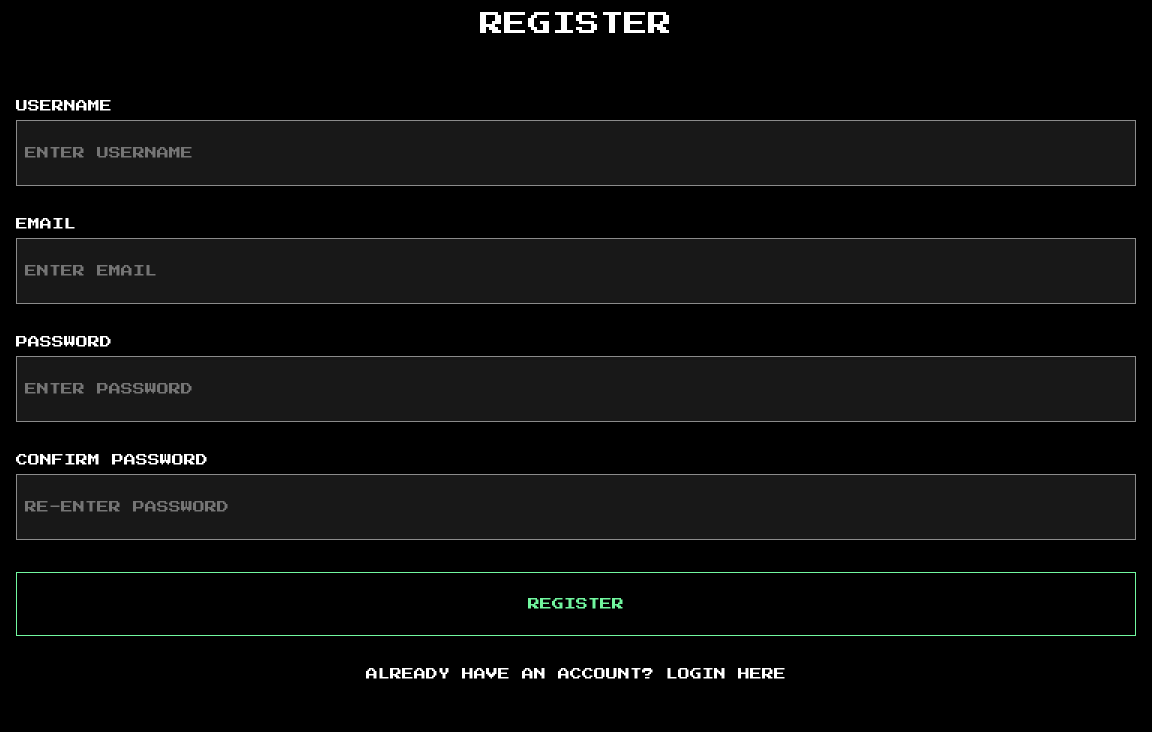
Test: RegisterView.vue › Displays an error message if passwords do not match
Type "newguy2" into the field labelled "USERNAME".
click(576, 153); type("newguy2")  # box [16,120,1136,186]
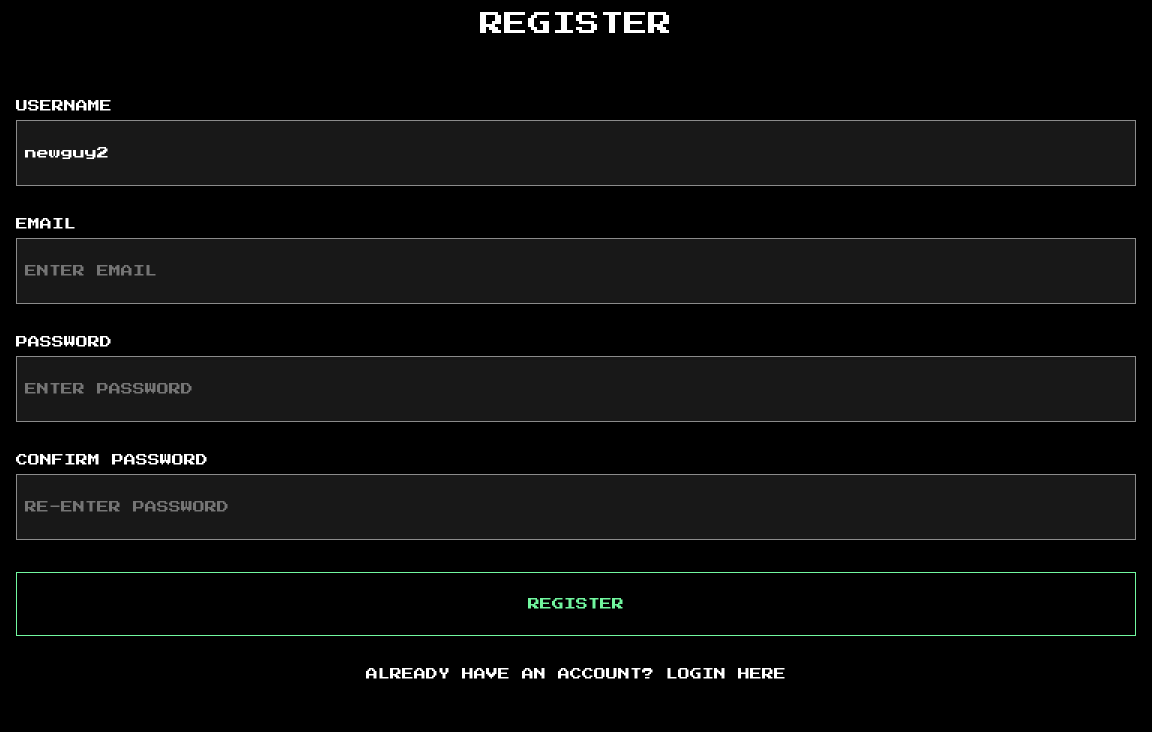
Type "newguy2@gmail.com" into the field labelled "EMAIL".
click(576, 271); type("newguy2@gmail.com")  # box [16,238,1136,304]
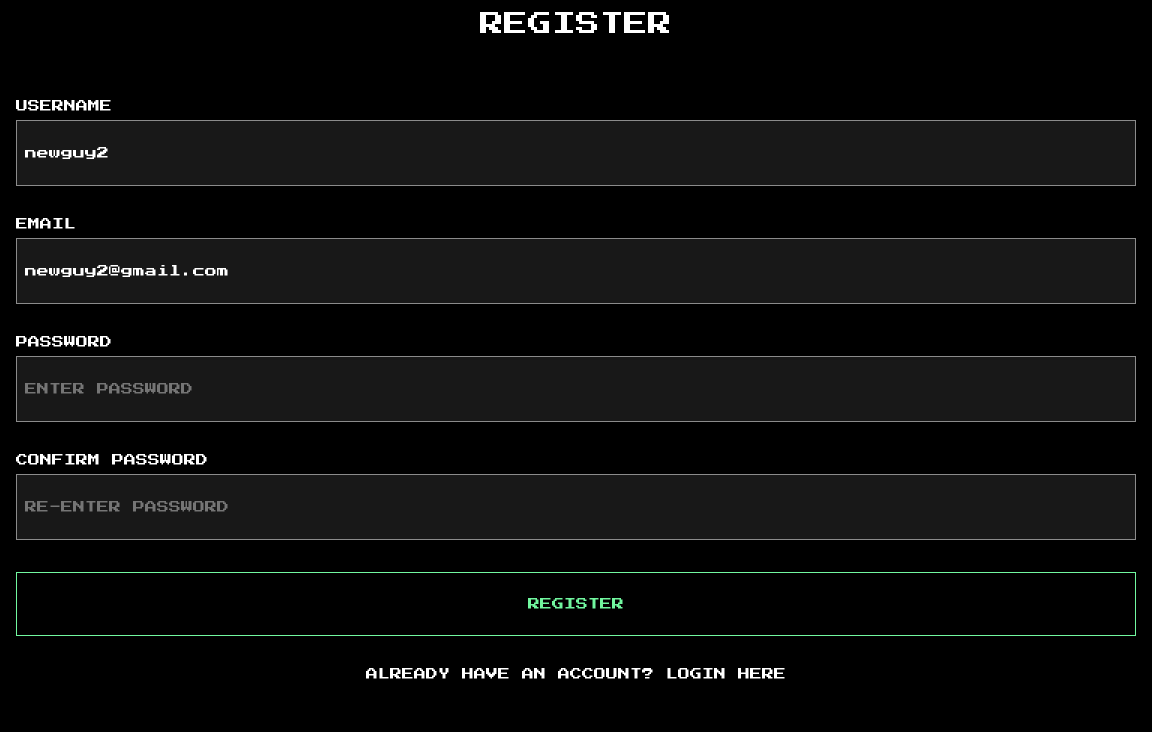
Type "newguy2" into the password field labelled "PASSWORD".
click(576, 389); type("newguy2")  # box [16,356,1136,422]
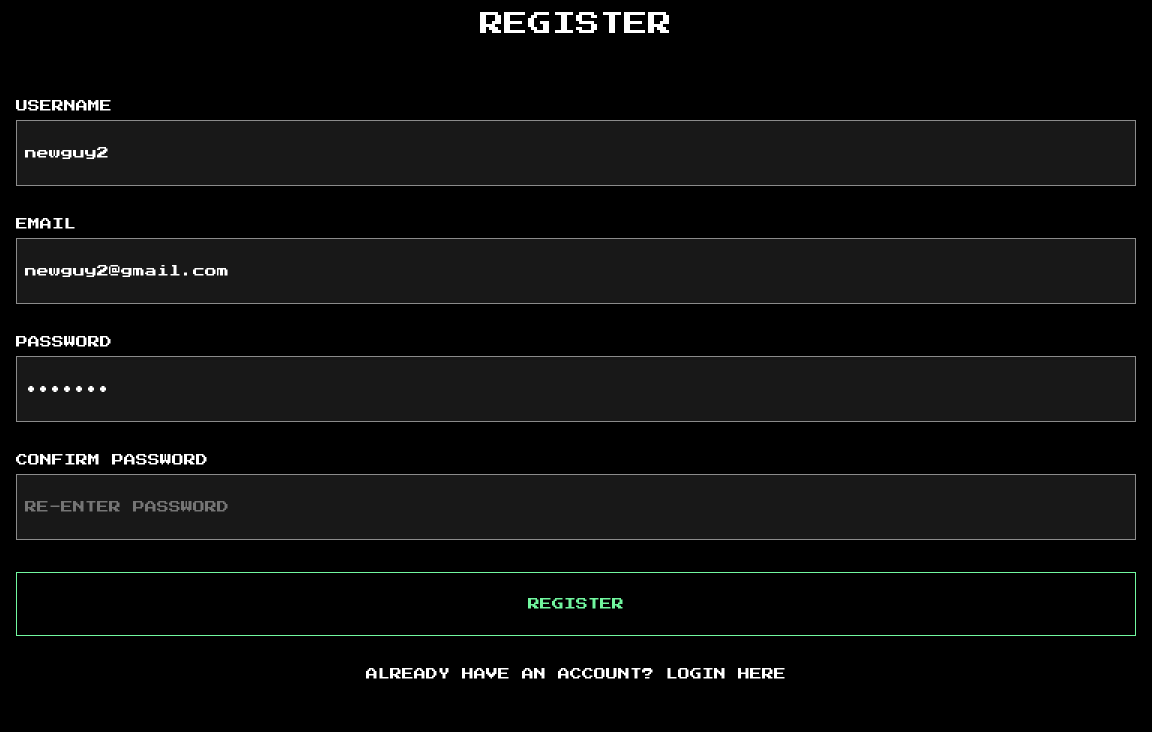
Type "newguy1" into the password field labelled "CONFIRM PASSWORD".
click(576, 507); type("newguy1")  # box [16,474,1136,540]
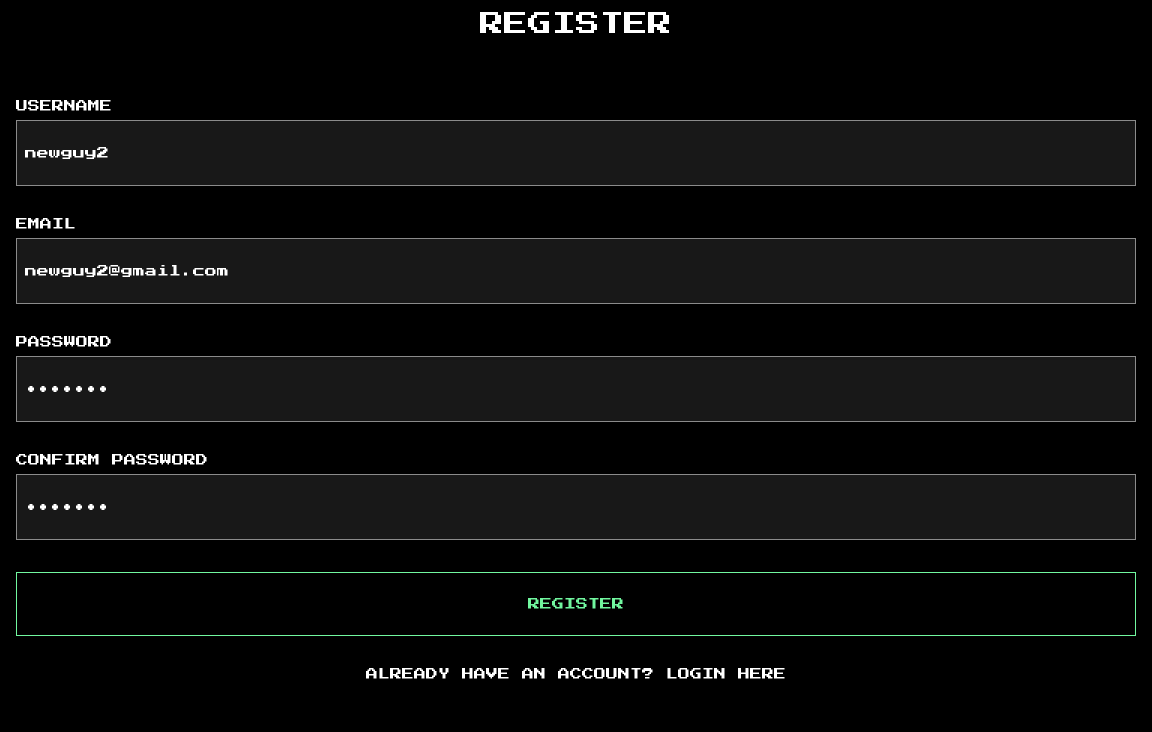
Submit the form from the button "REGISTER", box [16,572,1136,636]
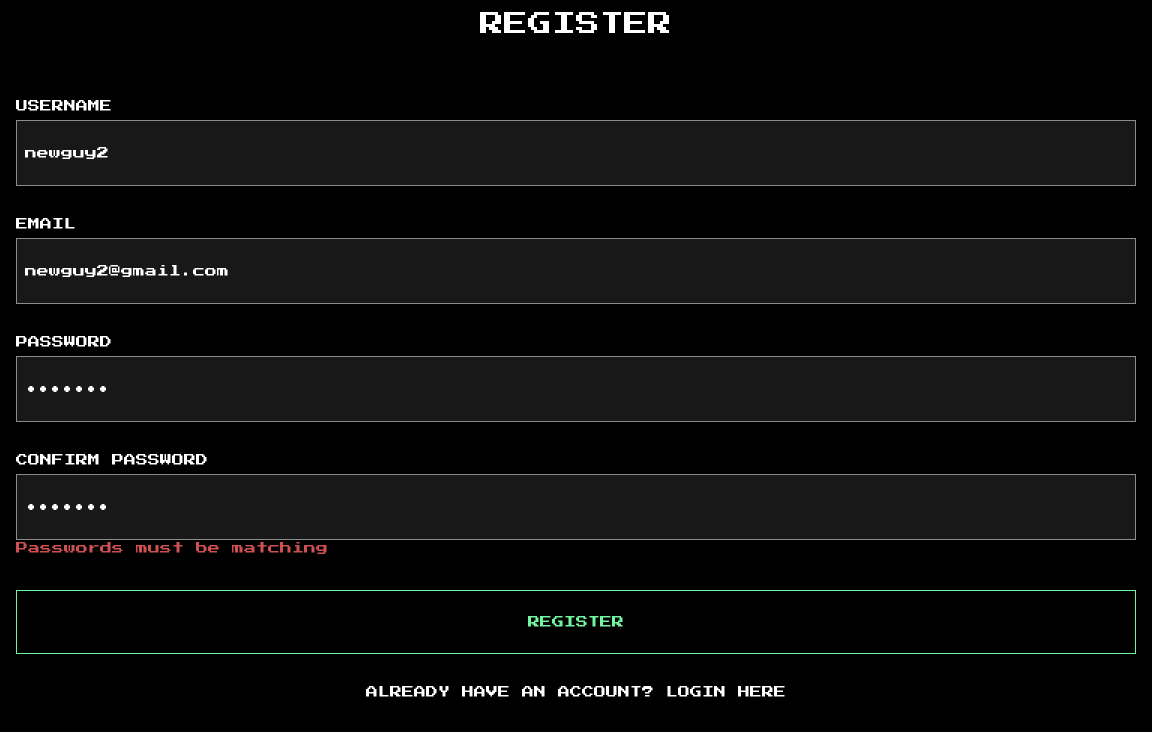
Expected: the text "Passwords must be matching" is shown, [16,542,328,554]
